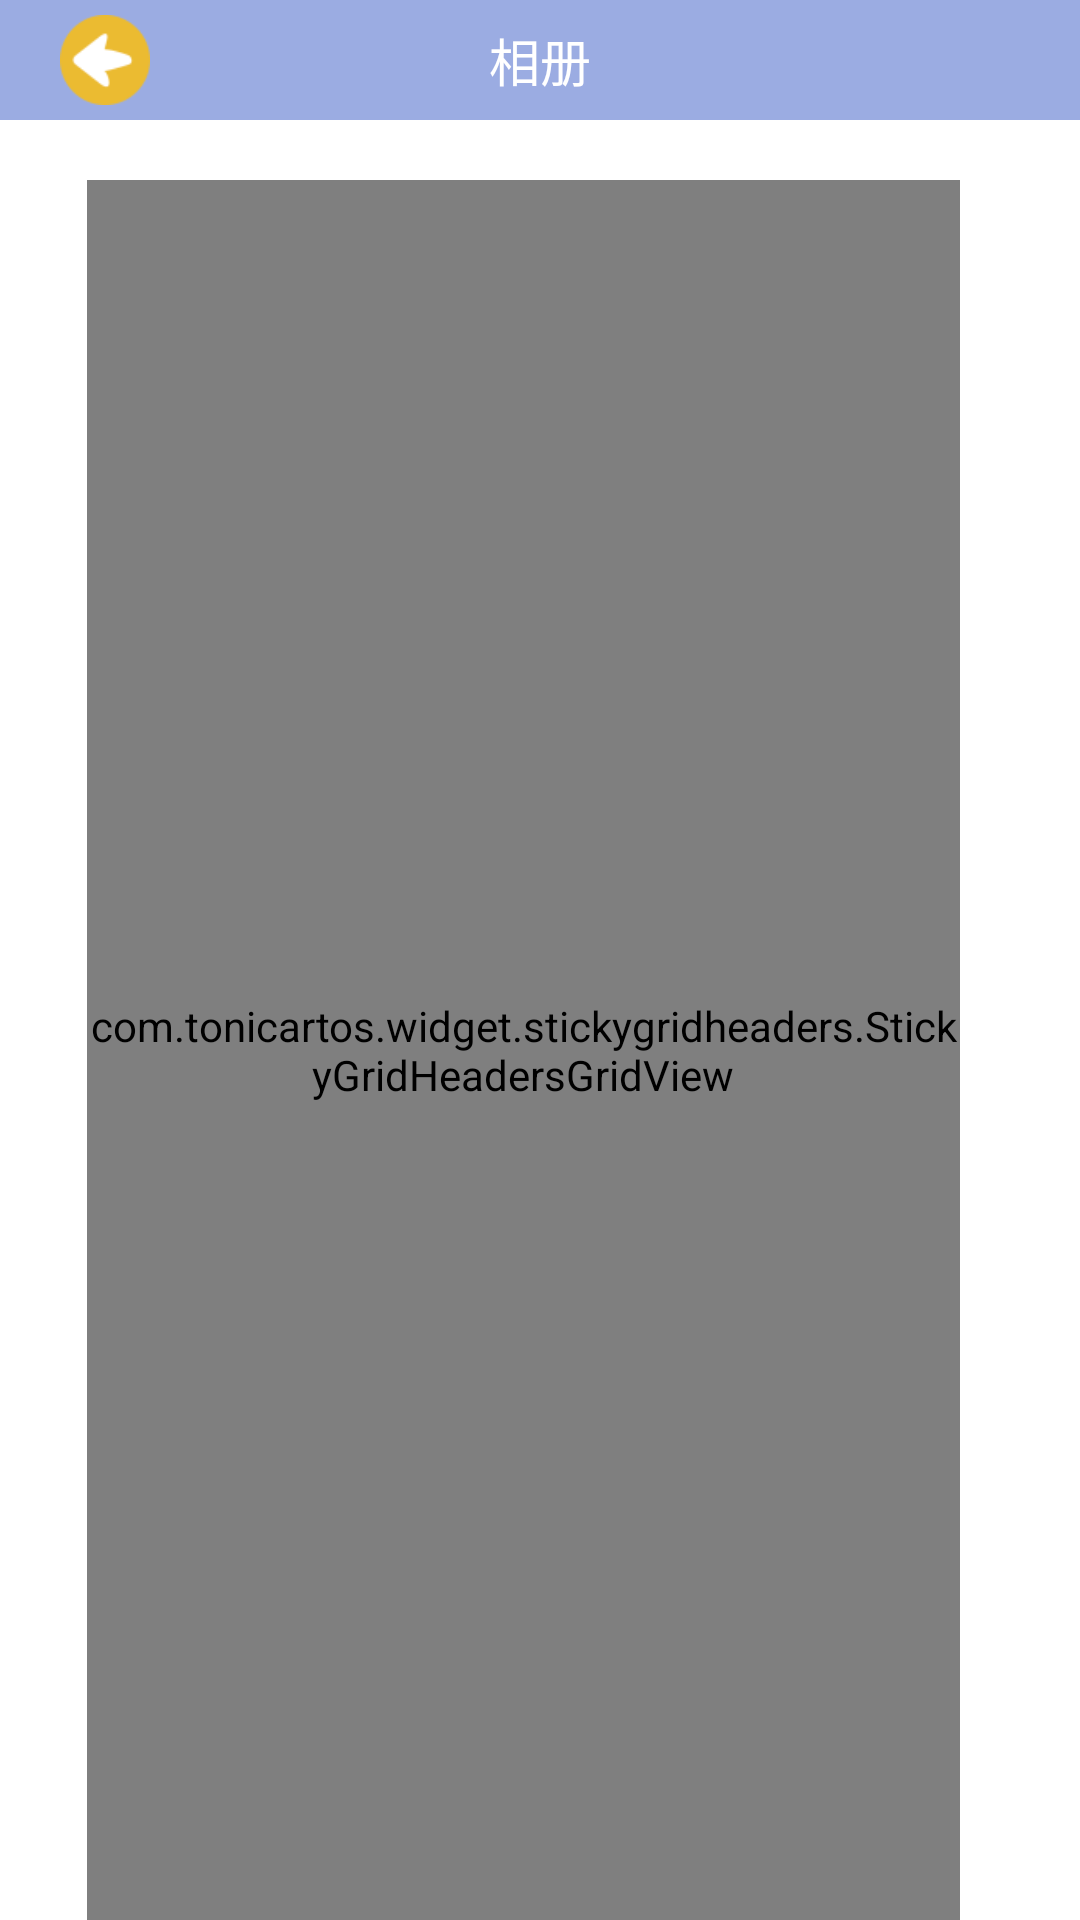

Screen size 1080x1920. Icon name, then its box in pixels as (x1, y1, x2, y2):
back: (60, 15, 150, 105)
